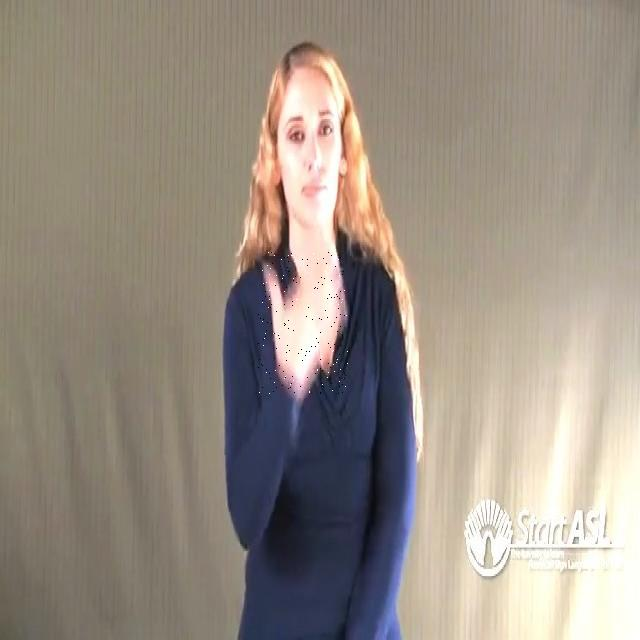thank-you: (258, 250, 348, 394)
